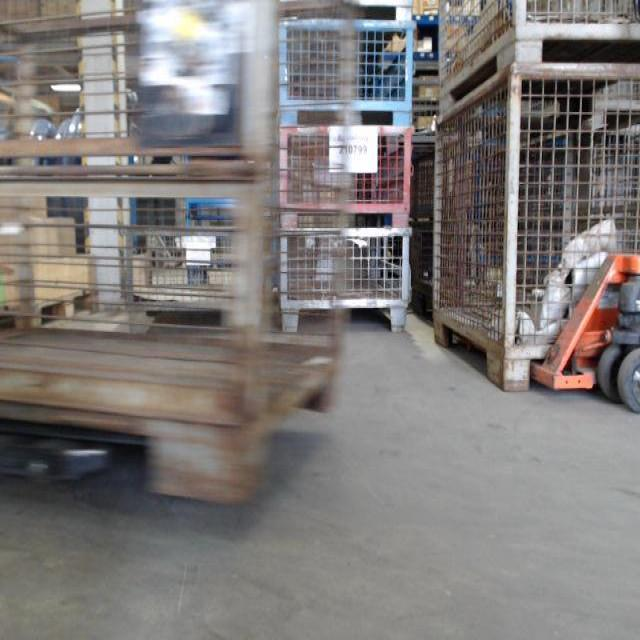pallet: (0, 286, 96, 335)
pallet_truck: (508, 240, 638, 419)
stillage: (432, 58, 637, 398), (424, 5, 639, 129), (267, 224, 419, 341), (272, 14, 419, 133), (266, 125, 420, 229), (140, 219, 275, 303)
